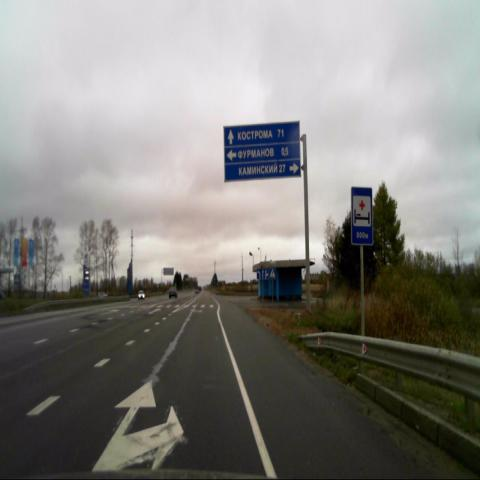7_2: (351, 187, 373, 246)
